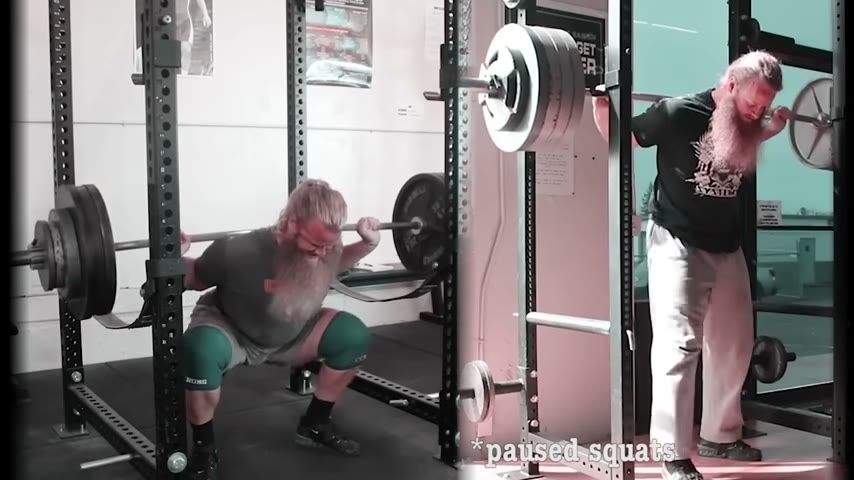barbell_plate_side: (6, 178, 130, 327), (444, 14, 527, 156)
